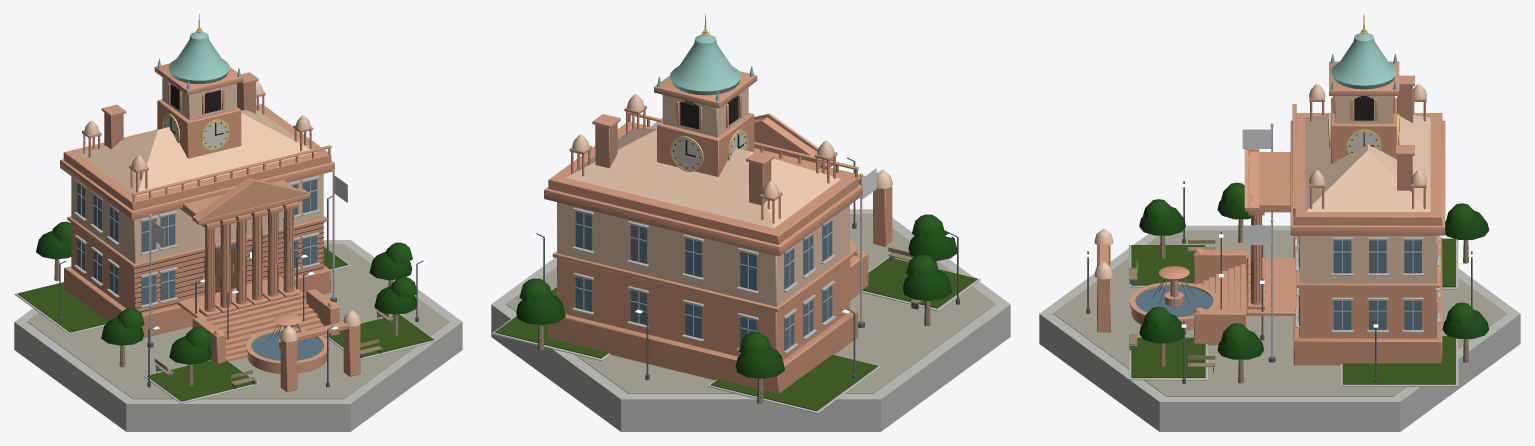
Rendered from cityHall_india.glb.
3 views of the same model, side by side, from view 1: azimuth 30°, elevation 25°; view 2: azimuth 150°, elevation 25°; view 3: azimuth 270°, elevation 25° (orthographic). The views are drawn at different scales.
Visible parts, largest first — view 1: stone, wall_concrete, plaster, pavers, turf, leaf, glass, dark, copper, wood, steel_dark, brick (+3 smaller); view 2: stone, wall_concrete, plaster, pavers, leaf, turf, glass, copper, brick, steel_dark, paint, dark (+1 smaller); view 3: stone, wall_concrete, plaster, pavers, turf, leaf, glass, copper, wood, banner, steel_dark, brick (+2 smaller).
Boxes of the visible parts, x1,y1,x2,y2 form: stone: (60,63,360,392); wall_concrete: (14,176,462,431); plaster: (71,77,360,342); pavers: (27,244,449,399); turf: (17,246,433,401); leaf: (36,221,417,364); glass: (77,179,323,360); dark: (134,84,324,312); copper: (157,32,240,89); wood: (54,248,398,385); steel_dark: (58,196,423,389); brick: (104,81,255,148); stone: (544,71,892,393); wall_concrete: (491,207,1010,431); plaster: (557,87,892,306); pavers: (506,214,995,393); leaf: (516,214,956,378); turf: (495,257,977,411); glass: (575,211,832,350); copper: (657,34,753,101); brick: (595,123,771,205); steel_dark: (536,157,959,380); paint: (671,131,746,170); dark: (673,95,850,298); stone: (1097,61,1445,365); wall_concrete: (1039,225,1520,431); plaster: (1094,84,1436,283); pavers: (1053,230,1506,396); turf: (1131,238,1455,384); leaf: (1139,182,1489,359); glass: (1135,236,1436,329); copper: (1330,33,1397,90); wood: (1129,219,1468,383); banner: (1242,129,1271,244); steel_dark: (1086,181,1473,384); brick: (1397,86,1412,191).
Bounding box in the file's own units: 21.3 × 18.6 × 24.6.
